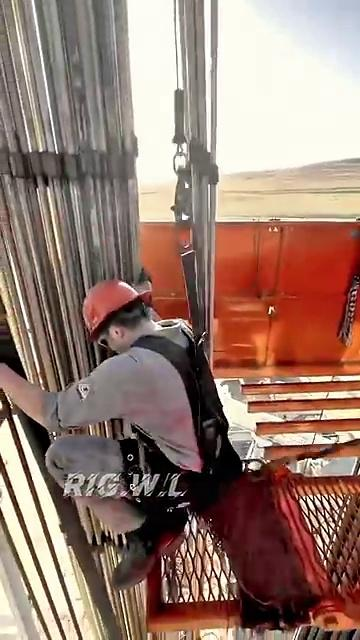helmet: (67, 242, 178, 347)
shoes: (72, 535, 197, 587)
worker: (10, 230, 260, 607)
